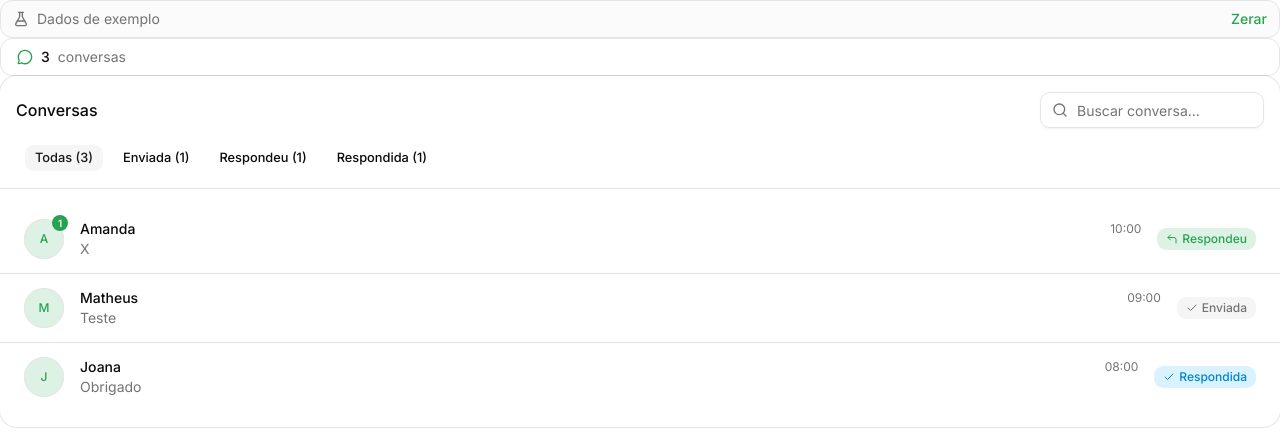
filtro por estado › a busca continua valendo dentro do filtro
Click the button "Todas (3)": (64, 158) x1=24 y1=144 x2=104 y2=172
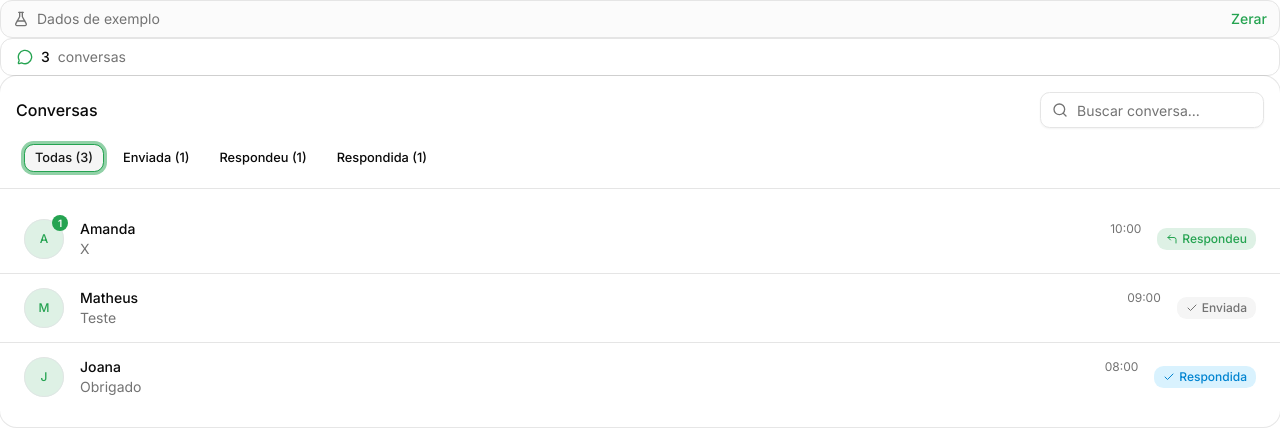
In the field labelled "Buscar conversa": (1152, 110) x1=1040 y1=92 x2=1264 y2=128, type "Matheus"
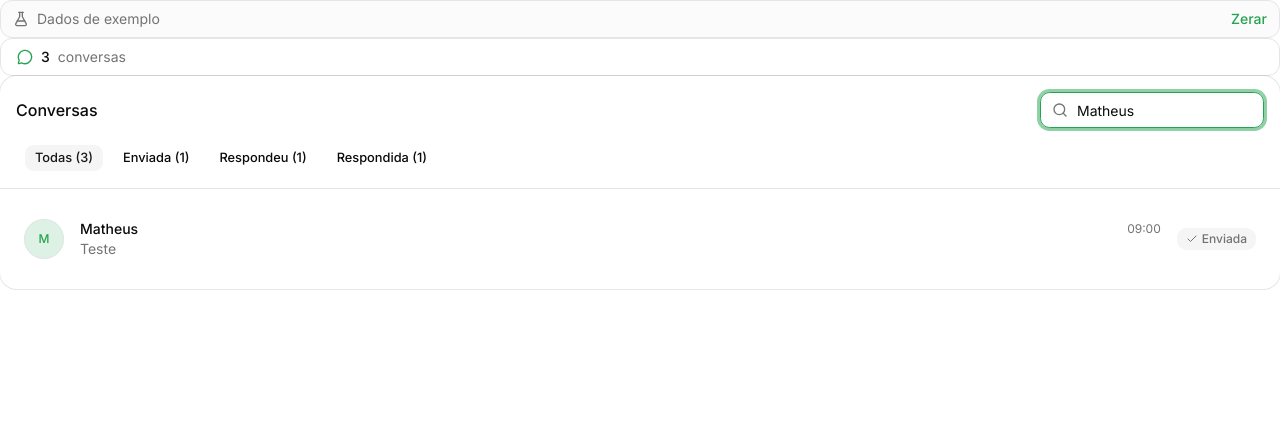
Expected: the text "Matheus" is shown, x1=80 y1=219 x2=138 y2=239
Result: the link "Amanda" is gone
